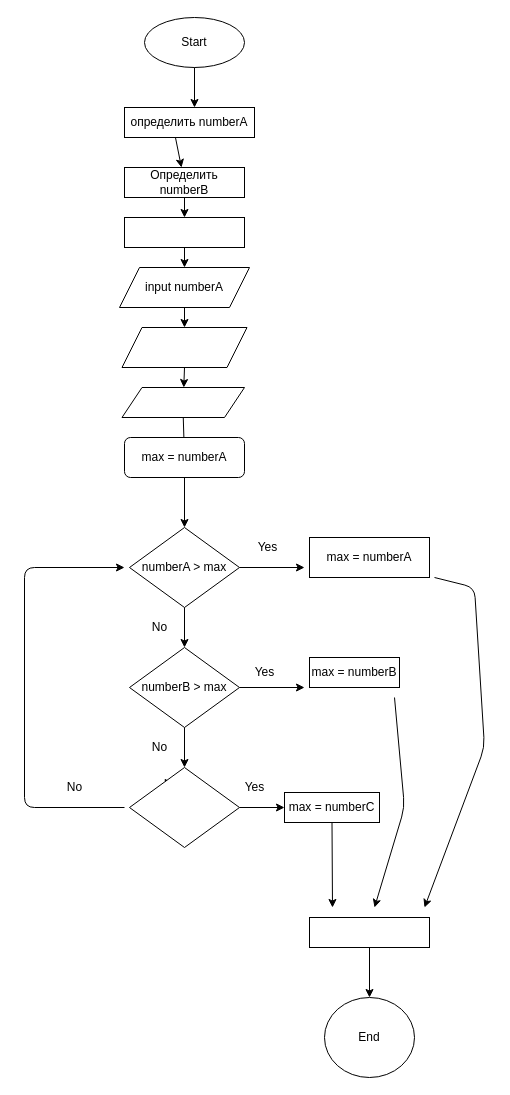
Image size: 510x1095. Some labels were removed from this diagram. The shapes that lost their labels are listed below. From the top down, each one's box as (x1, y1, x2, y2) in pixels, then its label:
(124, 216, 244, 248): Определить numberC
(121, 326, 247, 368): input numberB
(121, 386, 244, 418): input numberC
(128, 766, 240, 848): numberC > max
(308, 916, 430, 948): print max
